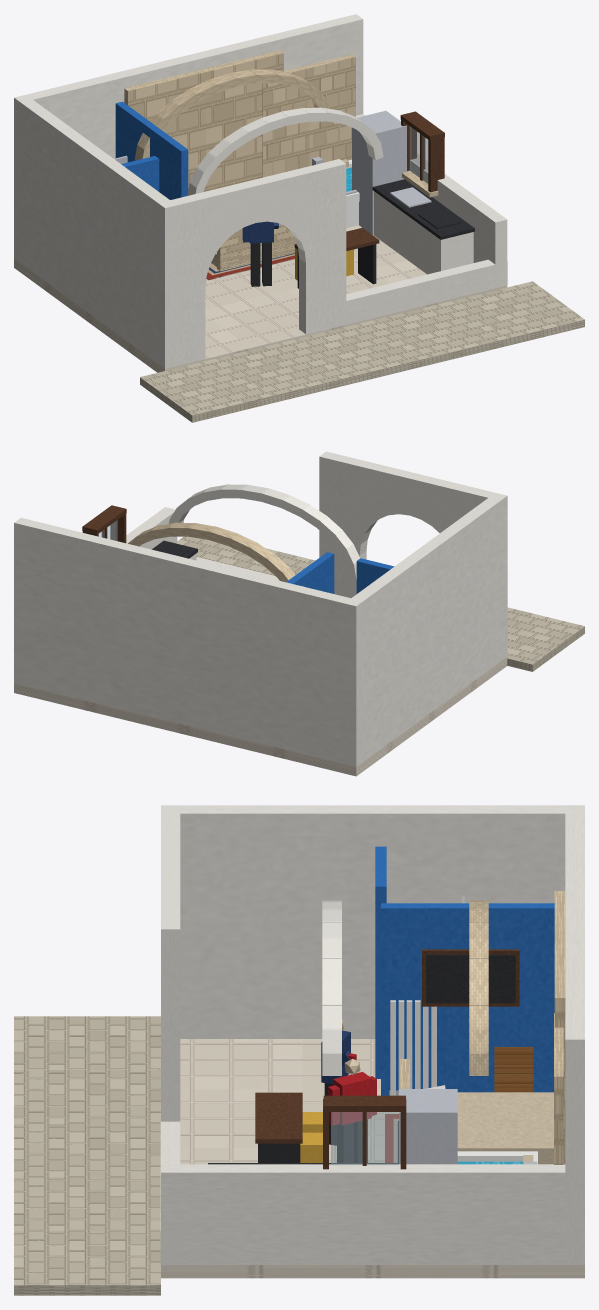
File: coppia1_mavi.glb
3 renders of one model, top to bottom at view 1: azimuth 30°, elevation 25°; view 2: azimuth 150°, elevation 25°; view 3: azimuth 270°, elevation 25°, orthographic. The views are drawn at different scales.
Parts seen in each view (by area): view 1: Wall_W, Alley_Step, Wall_Front_Portal, Wall_N, Wall_N_Stone, Mavi_Floor, Jac_Nook_N, Wall_Front_Cut, Mavi_Kitchen_cab, Mavi_Kitchen_fridge, Alley_Step_sub, Bath_WallE (+14 smaller); view 2: Wall_N, Wall_W, Wall_Front_Portal, Mavi_Floor_sub, Alley_Step, Bath_WallE, Wall_E_Cut, Bath_WallS, Alley_Step_sub, Mavi_Win_top; view 3: Wall_W, Wall_E_Cut, Alley_Step, Bath_WallE, Mavi_Floor, Wall_N, Wall_Front_Portal, Mavi_Bed_quilt, Mavi_Floor_sub, Mavi_Kitchen_fridge, Mavi_TV_canvas, Mavi_Win_glass (+15 smaller).
Part boxes in pixels (x1,y1,x2,y2): Wall_W: (14, 94, 177, 368); Alley_Step: (140, 281, 584, 415); Wall_Front_Portal: (158, 159, 346, 366); Wall_N: (14, 14, 363, 262); Wall_N_Stone: (124, 50, 283, 191); Mavi_Floor: (205, 225, 426, 358); Jac_Nook_N: (262, 54, 355, 177); Wall_Front_Cut: (346, 259, 507, 324); Mavi_Kitchen_cab: (374, 191, 473, 274); Mavi_Kitchen_fridge: (352, 110, 406, 235); Alley_Step_sub: (140, 319, 584, 422); Bath_WallE: (115, 101, 188, 199); Wall_N: (14, 518, 363, 766); Wall_W: (344, 496, 507, 766); Wall_Front_Portal: (319, 451, 506, 597); Mavi_Floor_sub: (14, 657, 507, 776); Alley_Step: (177, 536, 584, 664); Bath_WallE: (286, 552, 334, 593); Wall_E_Cut: (126, 507, 177, 549); Bath_WallS: (356, 558, 394, 593); Alley_Step_sub: (507, 626, 584, 671); Mavi_Win_top: (82, 505, 126, 534); Wall_W: (180, 805, 584, 1038); Wall_E_Cut: (161, 1164, 565, 1264); Alley_Step: (14, 1016, 160, 1285); Bath_WallE: (381, 903, 554, 1095); Mavi_Floor: (180, 1039, 398, 1164); Wall_N: (565, 813, 584, 1264); Wall_Front_Portal: (161, 805, 180, 1121); Mavi_Bed_quilt: (457, 1092, 553, 1164); Mavi_Floor_sub: (161, 1265, 584, 1278); Mavi_Kitchen_fridge: (399, 1089, 457, 1164); Mavi_TV_canvas: (426, 954, 515, 1003); Mavi_Win_glass: (331, 1112, 398, 1164).
Size of the model in its own units: 7.8 by 3.33 by 7.
17 materials, 17 textured.
